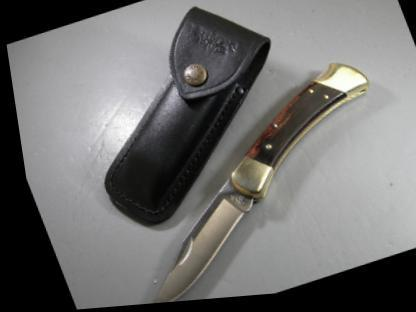knife: (90, 166, 288, 306)
